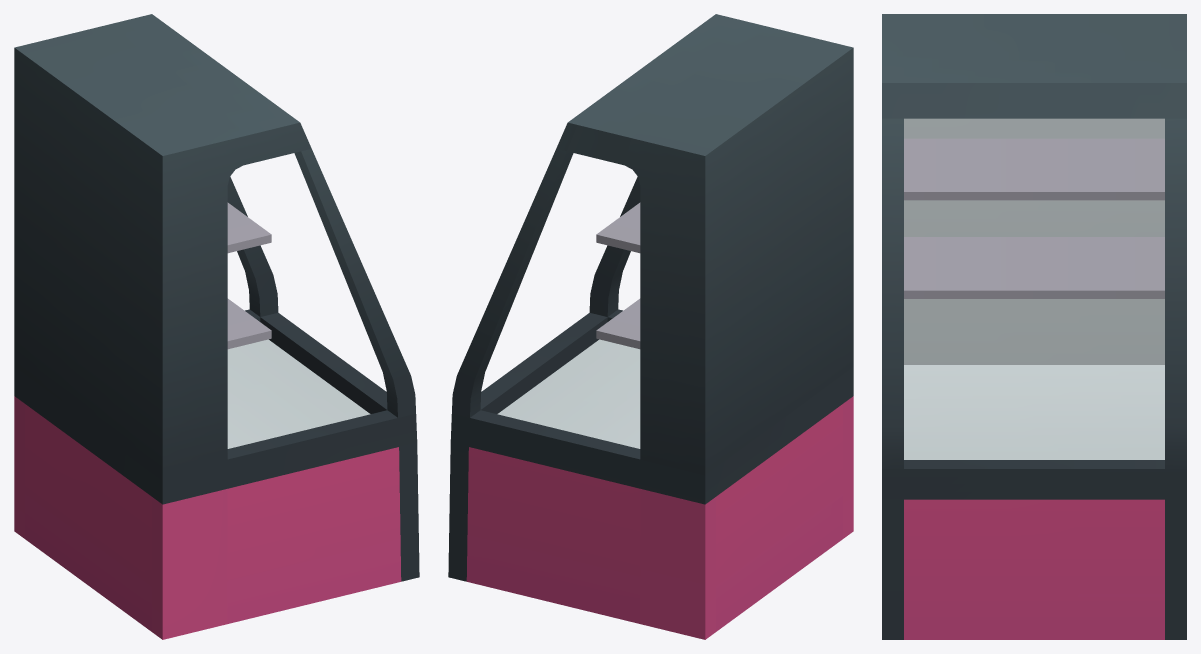
The model's file is MiniFridge.fbx.
The picture shows the model from 3 angles, left to right: view 1: azimuth 30°, elevation 25°; view 2: azimuth 150°, elevation 25°; view 3: azimuth 270°, elevation 25°; orthographic projection. The views are drawn at different scales.
Visible parts, largest first — view 1: MiniFridge; view 2: MiniFridge; view 3: MiniFridge.
Boxes of the visible parts, box(x1,y1,x2,y2) form: MiniFridge: box(14, 14, 419, 639); MiniFridge: box(448, 14, 853, 639); MiniFridge: box(882, 14, 1186, 639).
Size of the model in its own units: 28 by 50.4 by 28.
